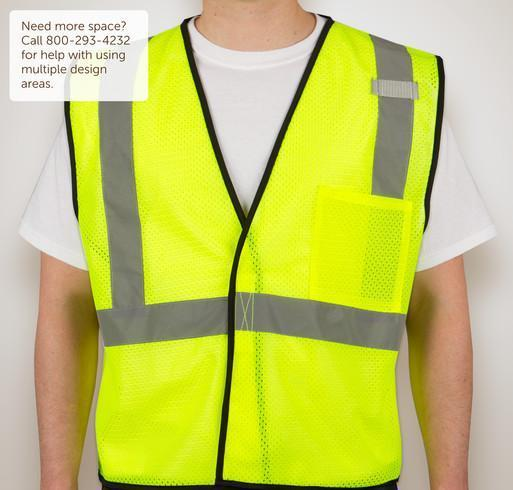vest: (60, 16, 444, 489)
